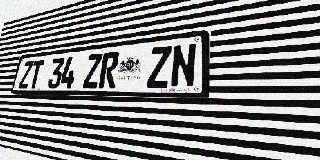3: (47, 57, 65, 88)
4: (59, 56, 78, 88)
N: (170, 43, 197, 88)
R: (98, 51, 120, 88)
T: (28, 60, 44, 89)
Z: (147, 46, 172, 88), (82, 53, 103, 88), (18, 61, 34, 89)
